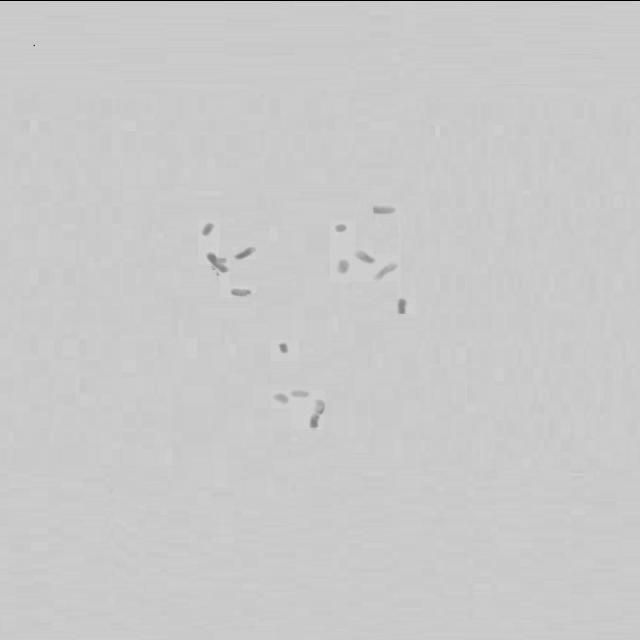E-coli: (202, 248, 234, 278), (232, 243, 262, 261), (371, 264, 403, 280), (392, 294, 410, 316), (331, 255, 351, 273), (372, 199, 394, 215), (351, 249, 376, 263), (289, 387, 314, 401), (228, 285, 253, 298), (314, 396, 330, 416), (197, 218, 217, 234), (301, 415, 324, 428), (271, 391, 289, 407), (272, 340, 290, 353), (329, 221, 347, 233)
